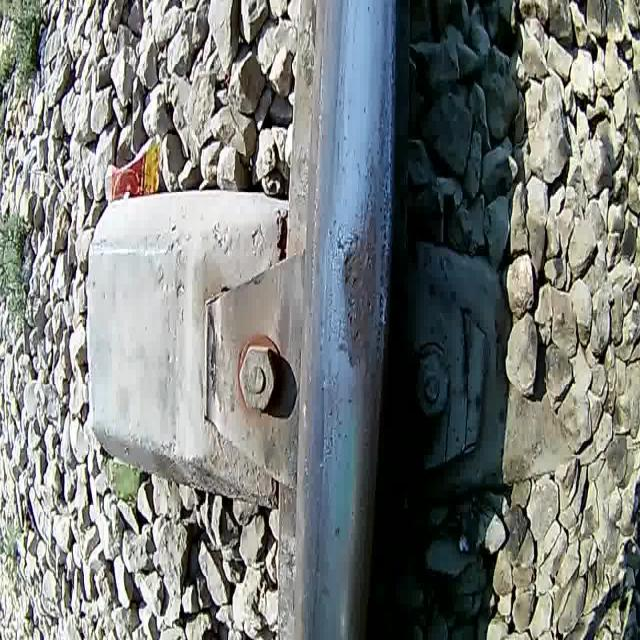Spallings: (334, 230, 375, 354)
Squats: (322, 205, 384, 385)
